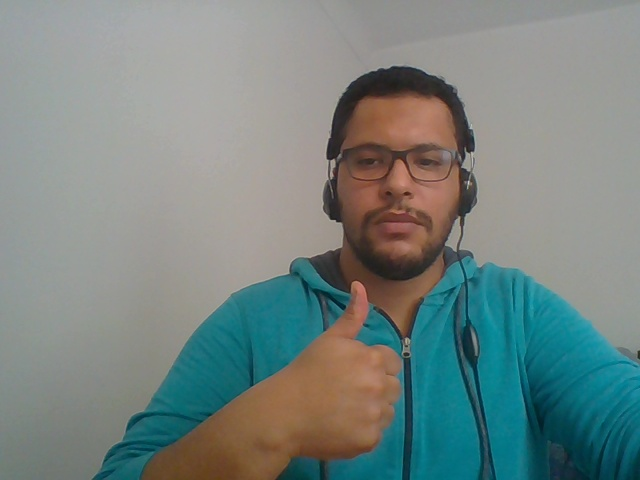ok: (255, 263, 421, 473)
